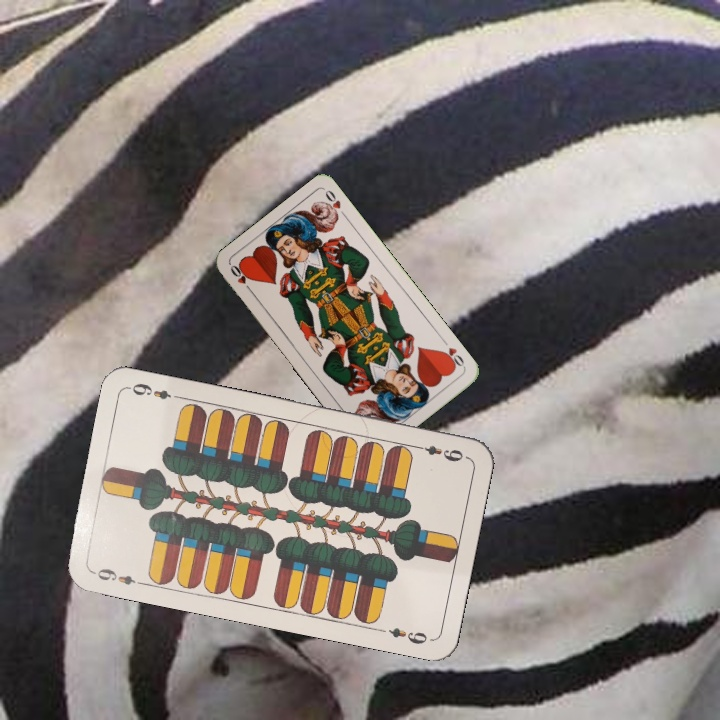E9: (89, 564, 147, 588), (410, 441, 466, 464)
HO: (437, 335, 467, 371), (226, 261, 256, 296)
